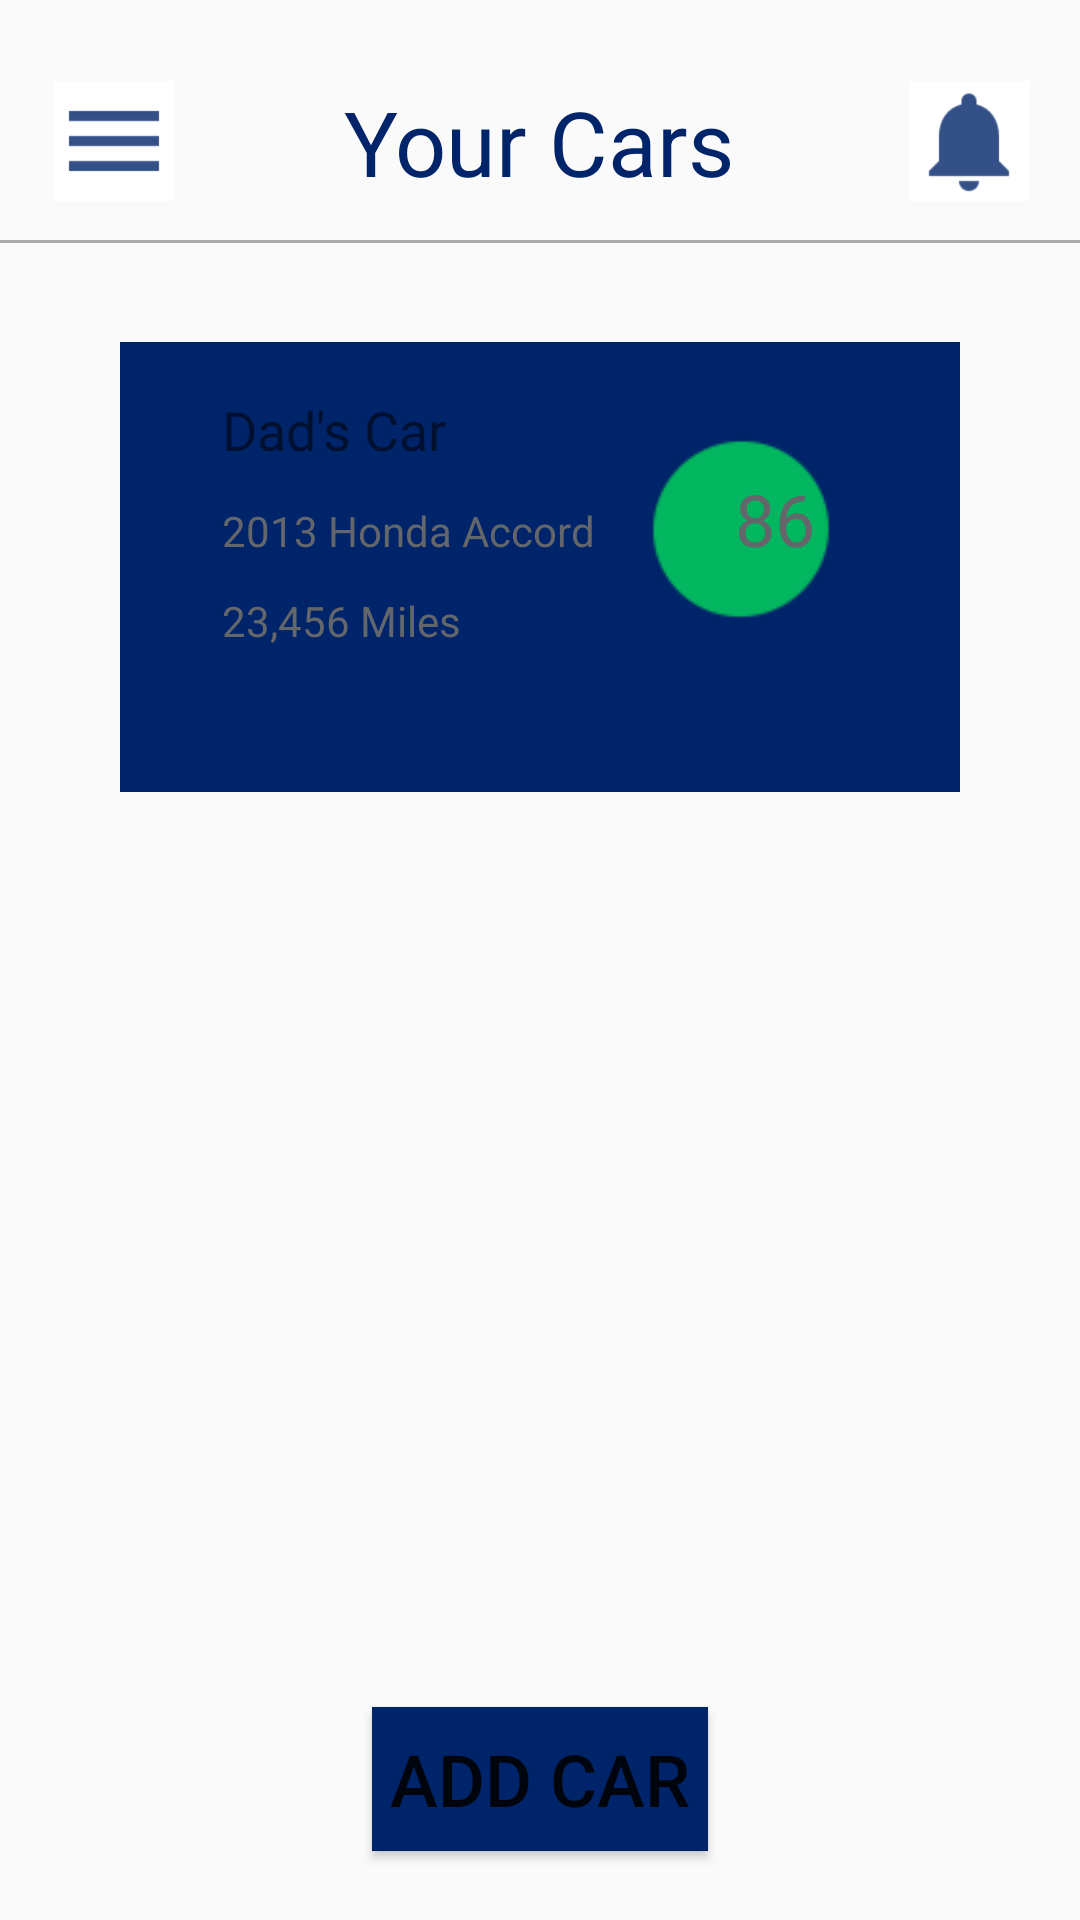

Icons on this 1080px×1920px Android screen, each with its box as (x1=x1, y1=y1, x2=x2, y2=y2):
circle: (x1=653, y1=441, x2=829, y2=617)
menu: (x1=69, y1=111, x2=159, y2=171)
notification: (x1=928, y1=93, x2=1010, y2=192)
